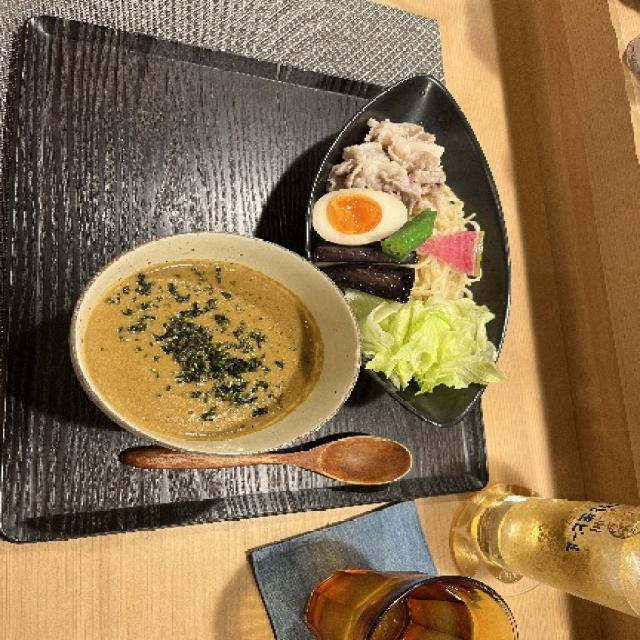Bowl: (68, 231, 363, 456)
Cup: (484, 477, 640, 604), (310, 563, 529, 640)
Plate: (304, 73, 510, 428)
